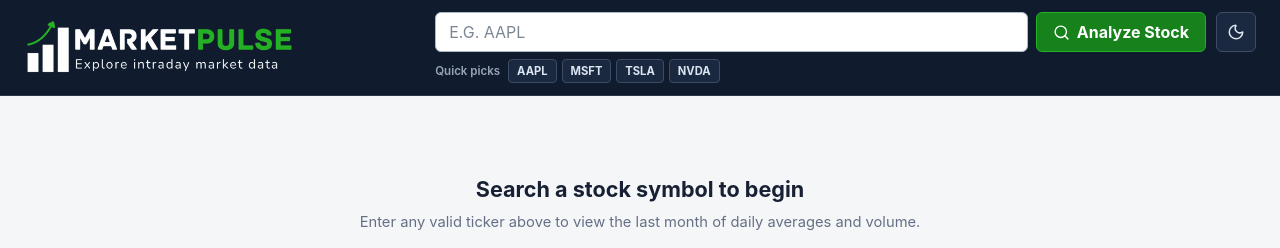
Scenario: MarketPulse app › renders an empty-data message for an empty successful response
Click the button "AAPL": click(532, 71) [508,59,557,83]
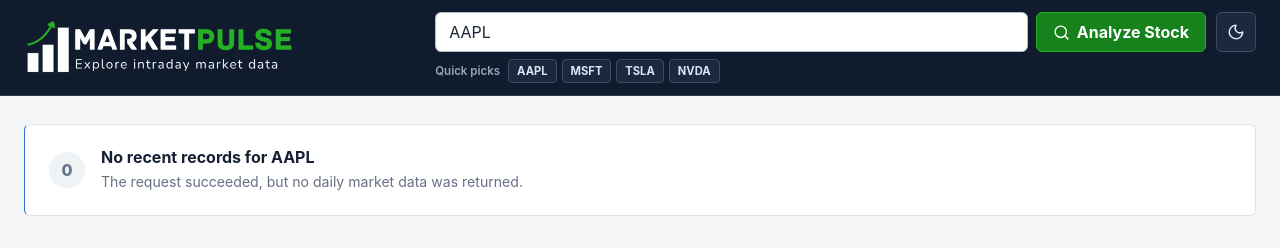
Result: the heading "No recent records for AAPL" is shown at [101,147,314,167]
